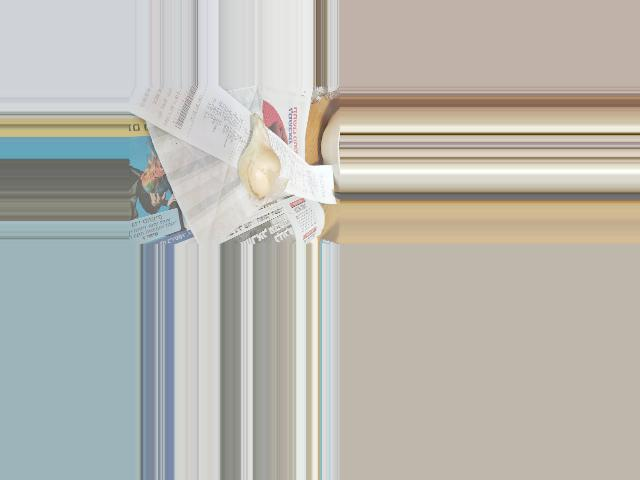onion: (234, 120, 278, 198)
